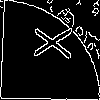X: (24, 25, 72, 60)
